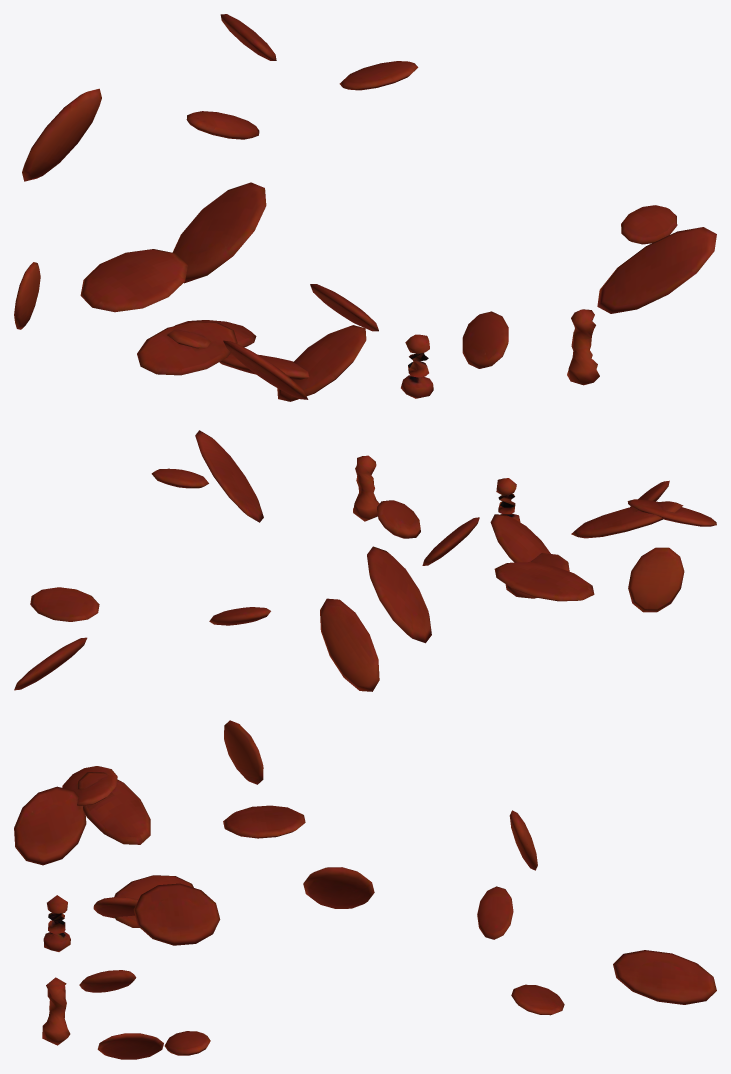
The model's file is salsa-barbacoa.glb.
3 views of the same model, one above another, from view 1: azimuth 30°, elevation 25°; view 2: azimuth 150°, elevation 25°; view 3: azimuth 270°, elevation 25° (orthographic). The views are drawn at different scales.
Visible parts, largest first — view 1: salsa-barbacoa; view 2: salsa-barbacoa; view 3: salsa-barbacoa.
Boxes of the visible parts, x1=… form: salsa-barbacoa: x1=14, y1=14, x2=716, y2=401; salsa-barbacoa: x1=14, y1=430, x2=716, y2=691; salsa-barbacoa: x1=14, y1=720, x2=716, y2=1059.
Size of the model in its own units: 1.31 by 0.3105 by 1.45.
Materials: 1 (1 with a texture image).
